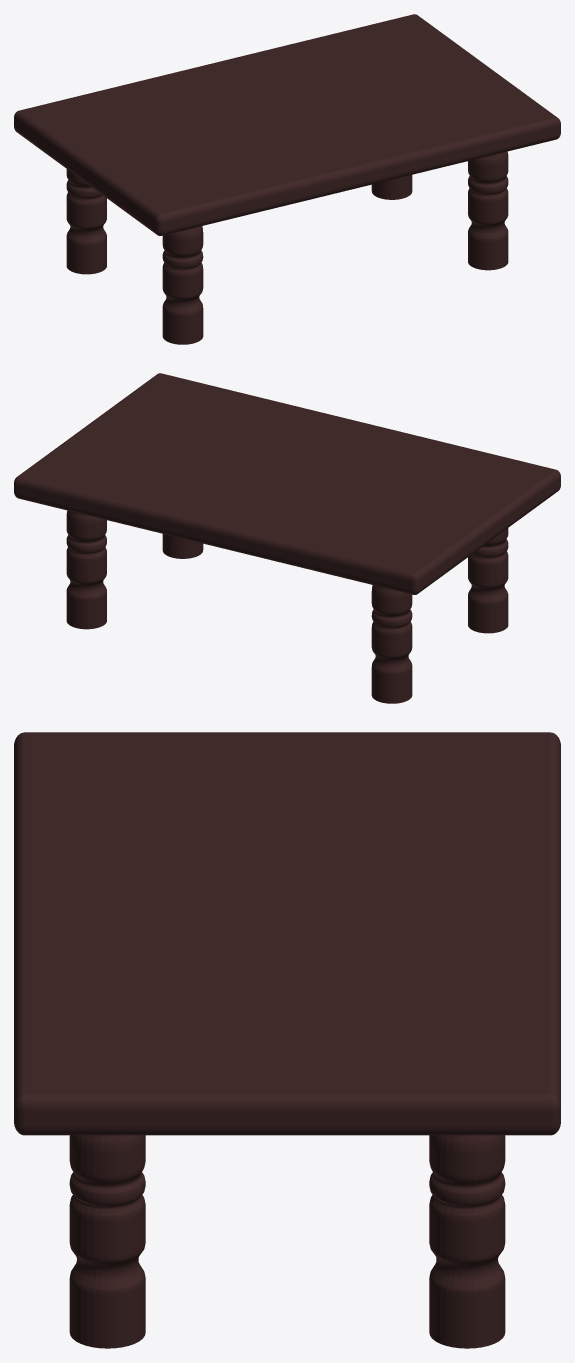
File: wooden_table.glb
The picture shows the model from 3 angles, top to bottom: view 1: azimuth 30°, elevation 25°; view 2: azimuth 150°, elevation 25°; view 3: azimuth 270°, elevation 25°; orthographic projection. The views are drawn at different scales.
Visible parts, largest first — view 1: Cube_wood_0; view 2: Cube_wood_0; view 3: Cube_wood_0.
Part boxes in pixels (x1,y1,x2,y2): Cube_wood_0: (14,14,560,344); Cube_wood_0: (14,373,560,703); Cube_wood_0: (14,732,560,1348).
Size of the model in its own units: 0.1459 by 0.0515 by 0.0913.
